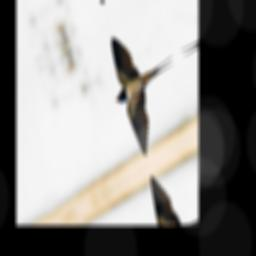Swallow: (99, 4, 192, 166)
